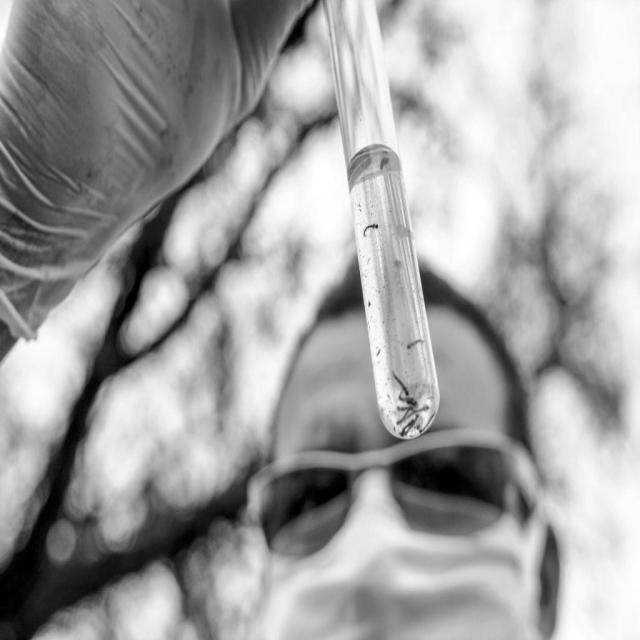larvas: (394, 371, 408, 395), (420, 415, 434, 433), (364, 224, 378, 238), (398, 409, 410, 425), (379, 153, 389, 172), (414, 405, 430, 416), (407, 339, 424, 348), (402, 422, 412, 436), (401, 398, 417, 405), (411, 412, 418, 426), (398, 406, 408, 413)
